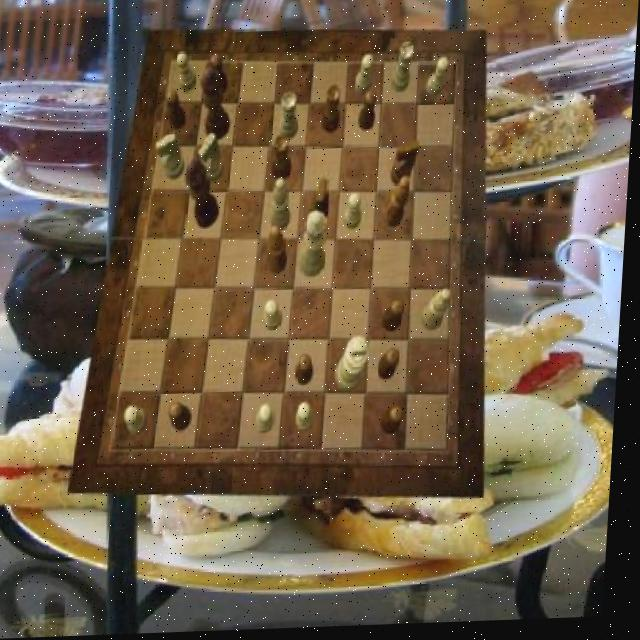bishop: (387, 178, 413, 232), (270, 228, 293, 277)
black-bishop: (184, 158, 224, 232)
black-king: (392, 143, 421, 189), (312, 181, 334, 228)
black-knight: (167, 91, 190, 132), (209, 56, 230, 97), (385, 304, 409, 338), (359, 93, 378, 134), (381, 352, 405, 384), (174, 404, 198, 433), (385, 411, 409, 439), (300, 358, 319, 389)
black-pawn: (199, 69, 235, 144)
black-queen: (274, 137, 296, 184), (324, 89, 344, 137)
black-rook: (273, 180, 296, 233), (426, 292, 455, 333)
white-bishop: (340, 338, 375, 395)
white-king: (156, 135, 188, 183), (200, 135, 227, 184)
white-knight: (175, 54, 199, 95), (428, 61, 451, 100), (355, 58, 375, 97), (347, 195, 366, 232), (131, 407, 155, 435), (301, 404, 321, 434), (269, 302, 288, 333), (261, 407, 280, 436)
white-pawn: (302, 213, 332, 280)
white-queen: (392, 45, 415, 94), (280, 96, 303, 144)
